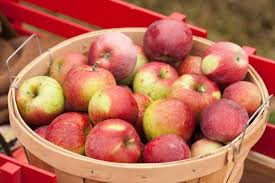apple: (141, 96, 194, 141), (84, 123, 140, 165), (62, 67, 117, 108), (43, 113, 93, 155), (15, 78, 62, 121), (143, 18, 192, 59), (200, 102, 251, 140), (89, 85, 135, 127), (92, 32, 136, 74), (203, 43, 251, 80), (172, 73, 220, 108), (135, 63, 177, 99), (50, 46, 88, 85), (141, 137, 190, 164), (221, 82, 262, 112)
